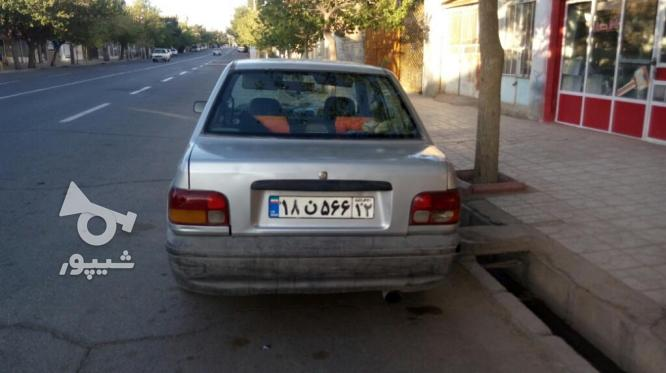car: (270, 196, 374, 217)
